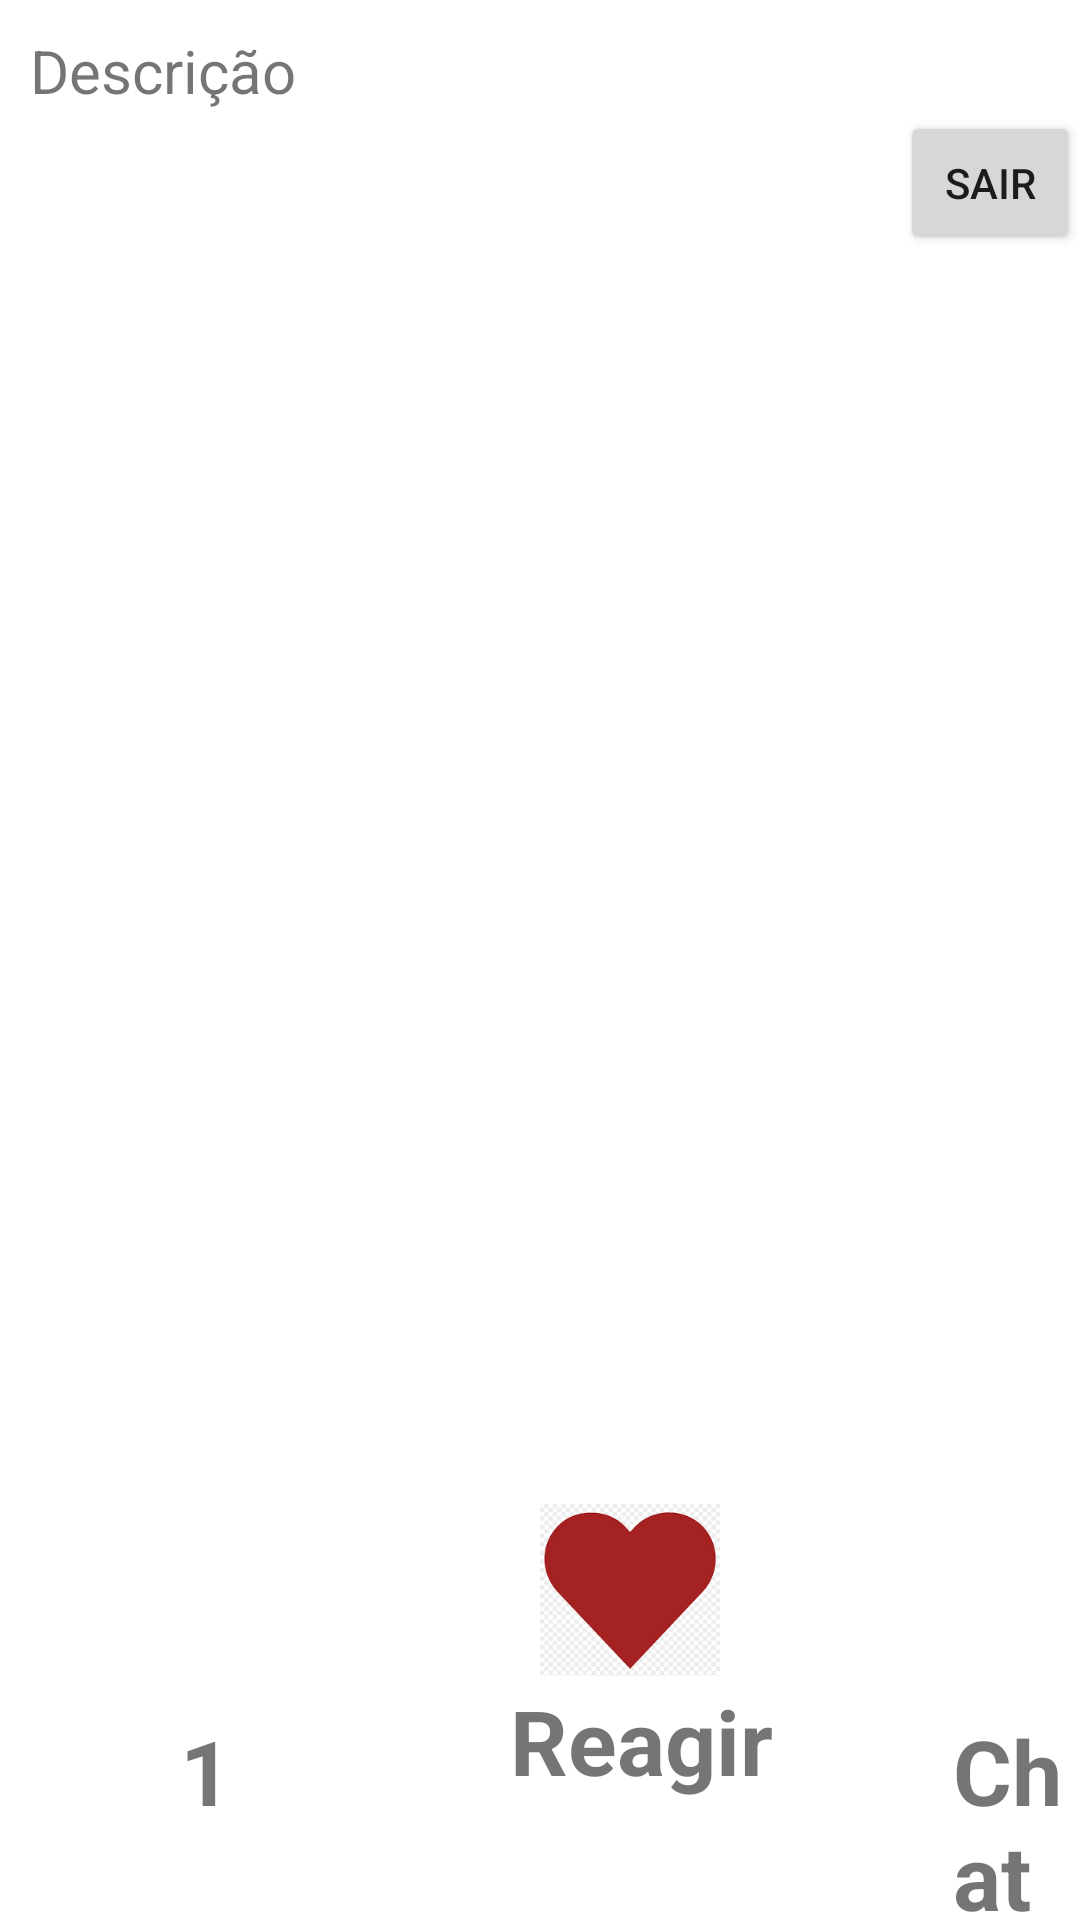

Where to tap for icons on this 1080w x 1920h app screen, as point (x, y):
heart: point (630, 1590)
